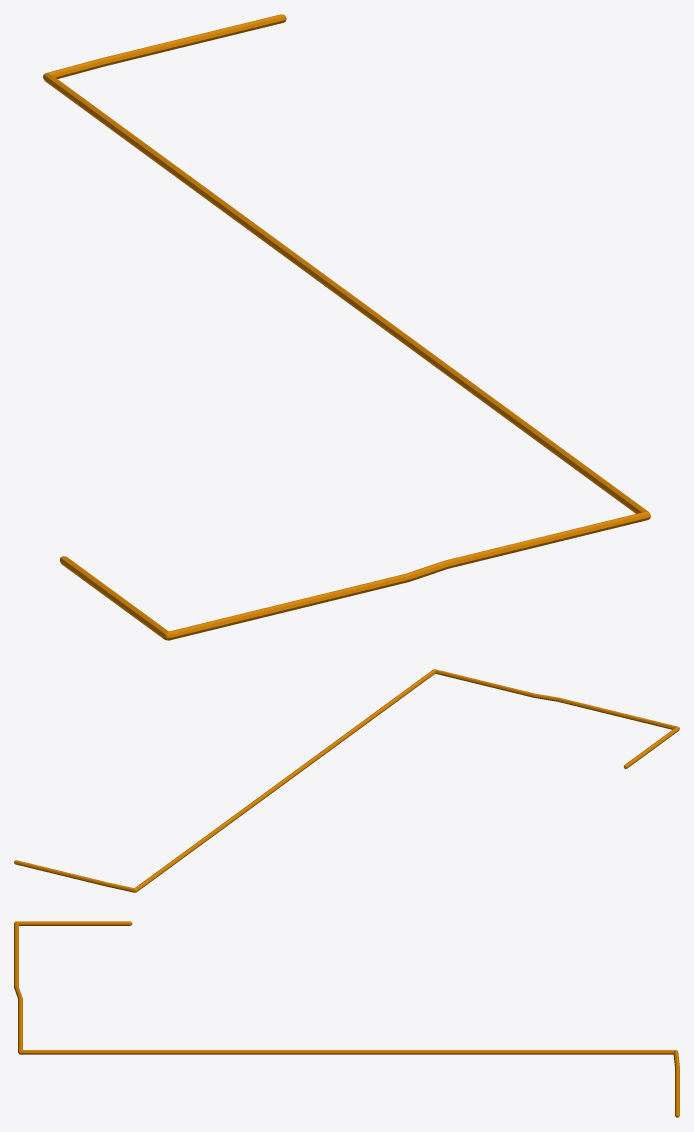
The picture shows the model from 3 angles, top to bottom: view 1: azimuth 30°, elevation 25°; view 2: azimuth 150°, elevation 25°; view 3: azimuth 270°, elevation 25°; orthographic projection. The views are drawn at different scales.
Size of the model in its own units: 1821 by 20 by 2643.
